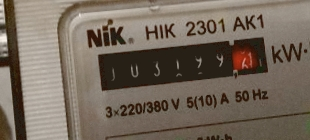0: (128, 59, 140, 79), (105, 62, 115, 81)
1: (171, 52, 182, 71)
3: (149, 57, 161, 78)
6: (238, 54, 249, 69)
9: (192, 49, 204, 70), (214, 49, 226, 68)
screen: (89, 27, 275, 97)
